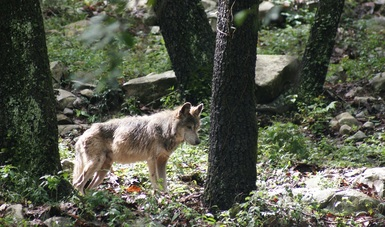Lobo: (64, 96, 210, 186)
